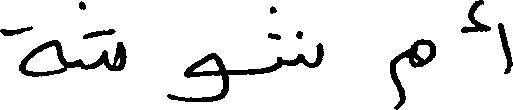X: (269, 1, 321, 77), (464, 0, 512, 78), (0, 21, 59, 81), (170, 48, 225, 106), (81, 0, 123, 75), (391, 34, 433, 109)
